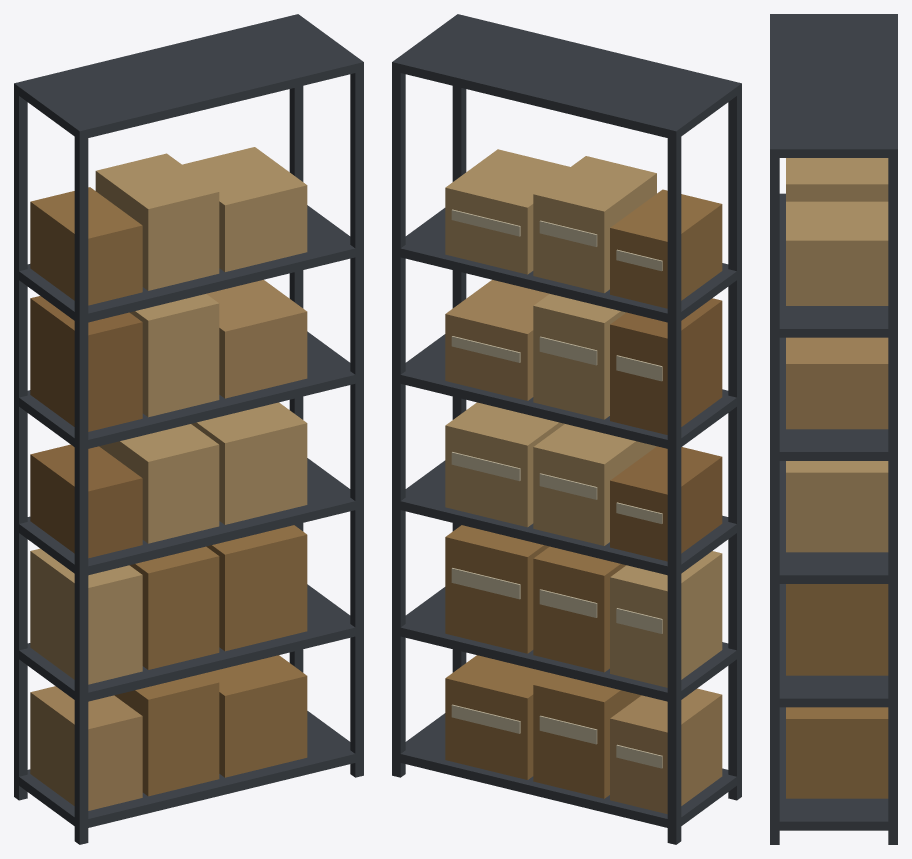
Rendered from tv-store-shelf.glb.
3 views of the same model, side by side, from view 1: azimuth 30°, elevation 25°; view 2: azimuth 150°, elevation 25°; view 3: azimuth 270°, elevation 25° (orthographic). The views are drawn at different scales.
Visible parts, largest first — view 1: box-prop; view 2: box-prop; view 3: box-prop.
Boxes of the visible parts, x1,y1,x2,y2 form: box-prop: [14, 14, 363, 844]; box-prop: [392, 14, 741, 844]; box-prop: [770, 14, 897, 844].
Size of the model in its own units: 2 by 4.8 by 0.8.
